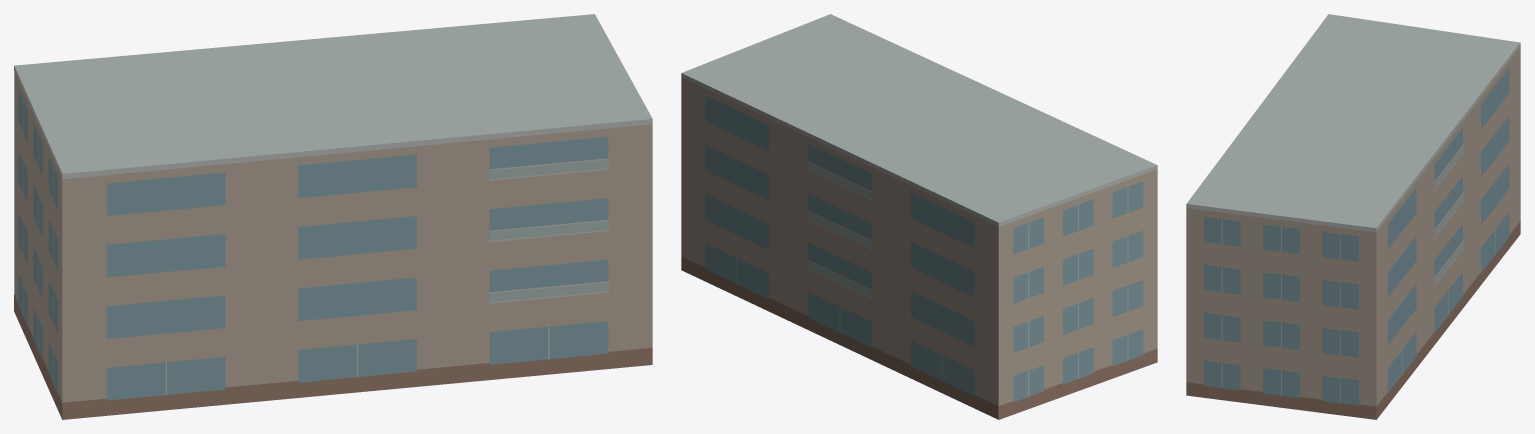
Rendered from survey-upis-32903833.glb.
The picture shows the model from 3 angles, left to right: view 1: azimuth 30°, elevation 25°; view 2: azimuth 150°, elevation 25°; view 3: azimuth 270°, elevation 25°; orthographic projection. The views are drawn at different scales.
Visible parts, largest first — view 1: survey-upis-32903833.tmp; view 2: survey-upis-32903833.tmp; view 3: survey-upis-32903833.tmp.
Part boxes in pixels (x1,y1,x2,y2): survey-upis-32903833.tmp: [14, 14, 652, 419]; survey-upis-32903833.tmp: [681, 14, 1157, 419]; survey-upis-32903833.tmp: [1186, 14, 1520, 419].
Bounding box in the file's own units: 27.1 × 11.3 × 17.86.
